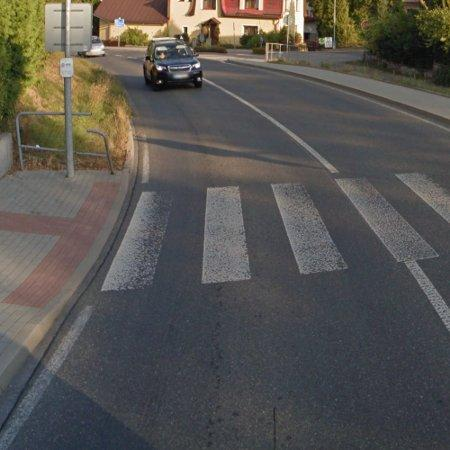crosswalks: (96, 173, 450, 293)
